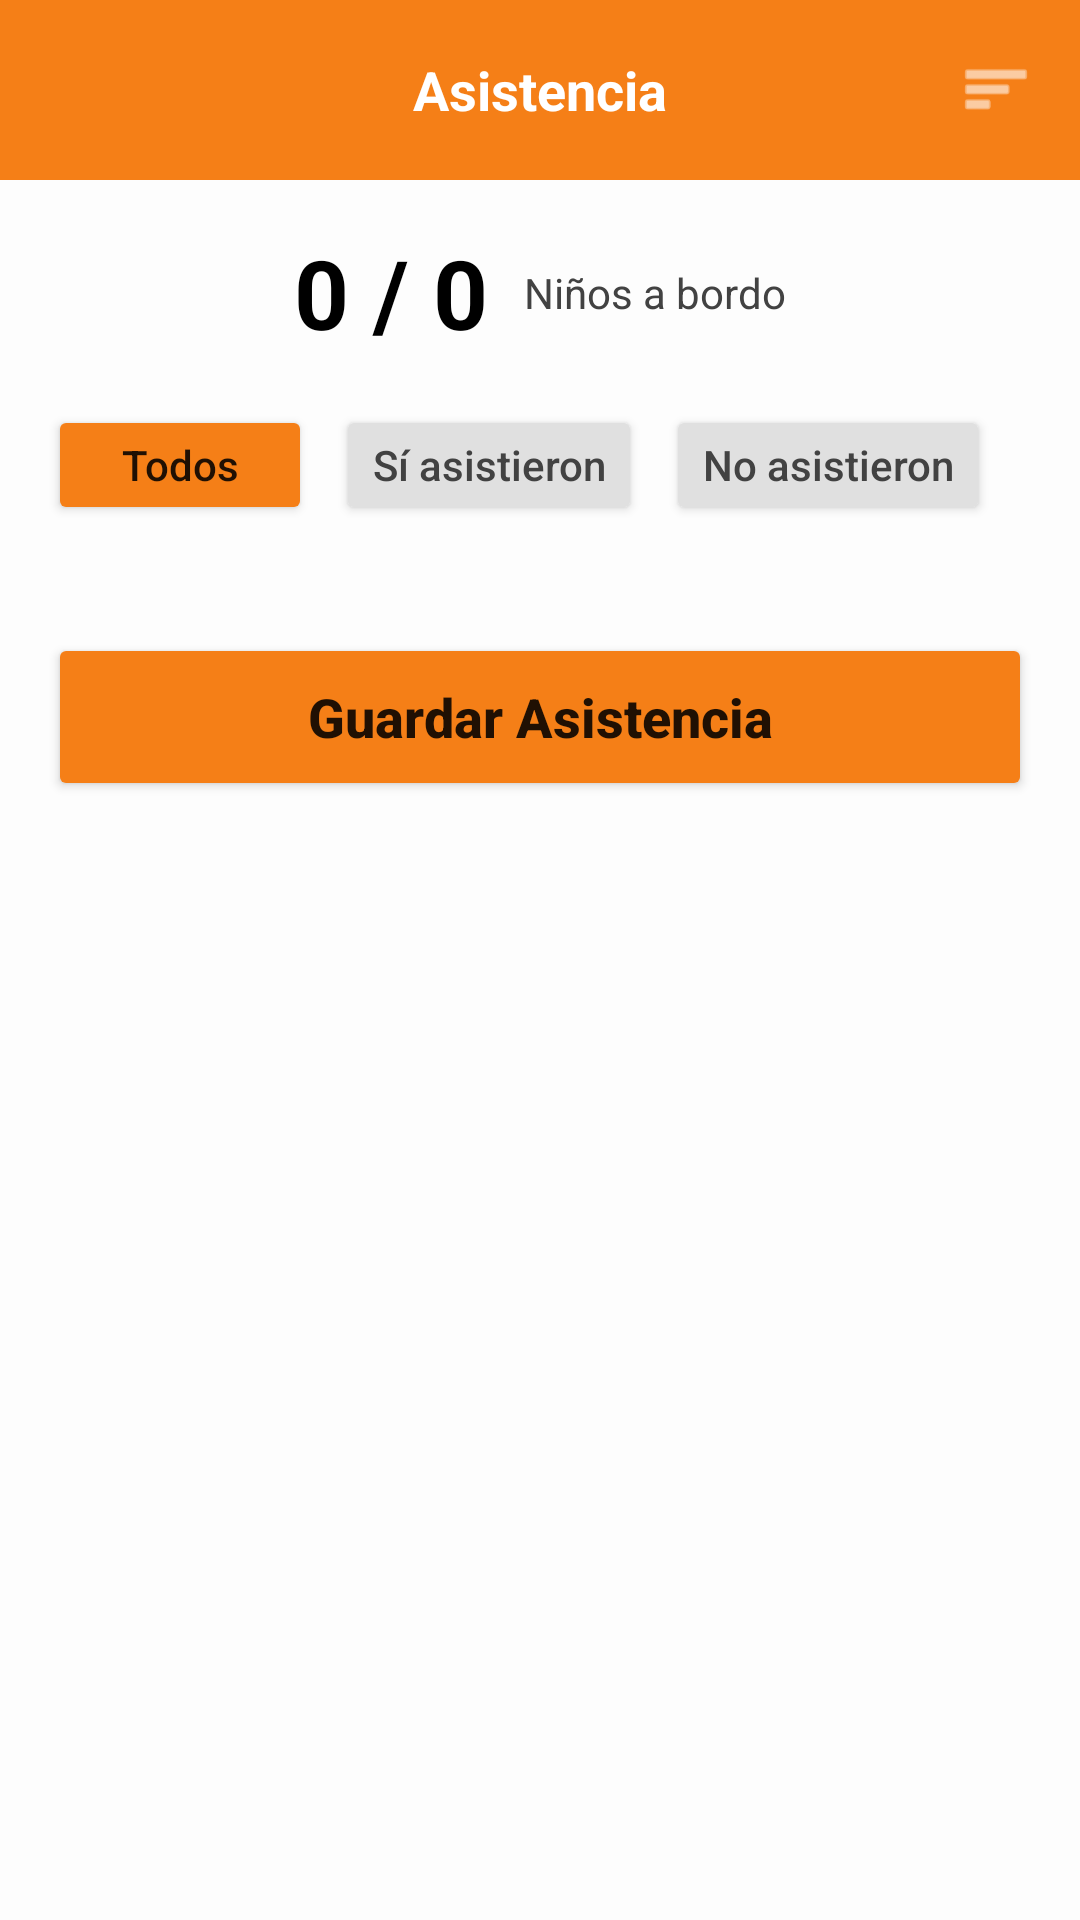

Where to tap for icons on this 1080x1920 app screen, as [x,y]:
sort by size: [996,89]
